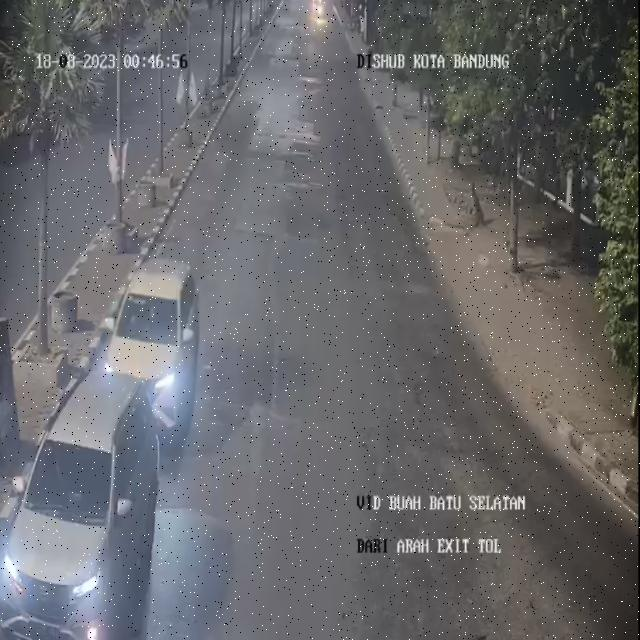cars: (0, 368, 160, 636), (101, 256, 203, 434)
